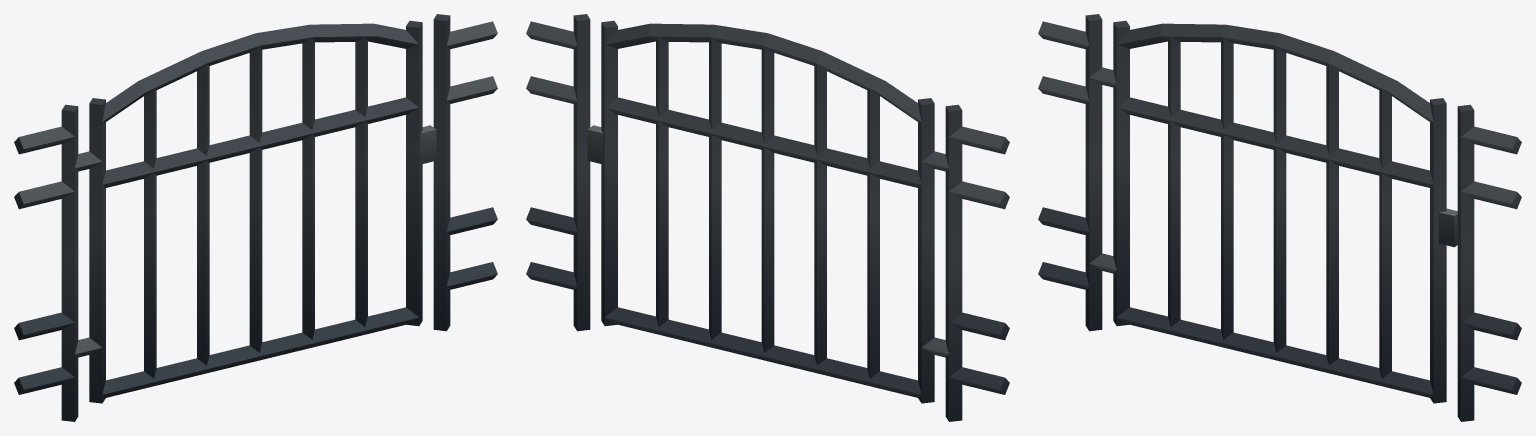
The model's file is Fence_Gate_Iron_01.fbx.
3 views of the same model, side by side, from view 1: azimuth 30°, elevation 25°; view 2: azimuth 150°, elevation 25°; view 3: azimuth 330°, elevation 25° (orthographic).
Parts seen in each view (by area): view 1: Fence_Gate_Iron_01_Gate, Fence_Gate_Iron_01_HingeSide, Fence_Gate_Iron_01_Side; view 2: Fence_Gate_Iron_01_Gate, Fence_Gate_Iron_01_HingeSide, Fence_Gate_Iron_01_Side; view 3: Fence_Gate_Iron_01_Gate, Fence_Gate_Iron_01_HingeSide, Fence_Gate_Iron_01_Side.
Part boxes in pixels (left/top/right/bottom): Fence_Gate_Iron_01_Gate: left=89, top=20, right=436, bottom=403; Fence_Gate_Iron_01_HingeSide: left=14, top=104, right=101, bottom=421; Fence_Gate_Iron_01_Side: left=433, top=14, right=497, bottom=331; Fence_Gate_Iron_01_Gate: left=587, top=20, right=934, bottom=403; Fence_Gate_Iron_01_HingeSide: left=922, top=104, right=1009, bottom=421; Fence_Gate_Iron_01_Side: left=526, top=14, right=590, bottom=331; Fence_Gate_Iron_01_Gate: left=1113, top=20, right=1457, bottom=403; Fence_Gate_Iron_01_HingeSide: left=1038, top=14, right=1116, bottom=331; Fence_Gate_Iron_01_Side: left=1457, top=104, right=1521, bottom=421.
Size of the model in its own units: 400 by 274 by 14.14.
